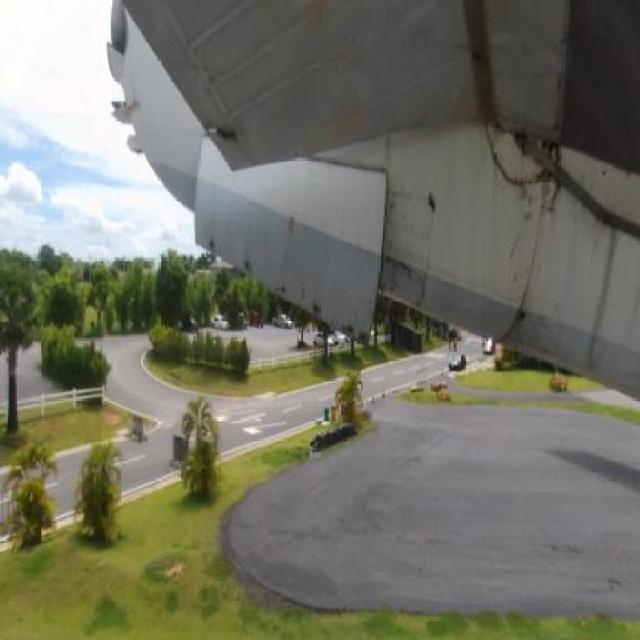Rust: (479, 121, 576, 239), (581, 200, 640, 383), (482, 249, 556, 368), (380, 178, 443, 317), (468, 6, 528, 131), (301, 2, 368, 72), (312, 85, 379, 143), (340, 310, 372, 362), (203, 223, 235, 266), (268, 266, 295, 308), (305, 285, 329, 332), (240, 242, 254, 282)
Scartch: (188, 86, 249, 169), (498, 159, 550, 230), (504, 232, 531, 296)
